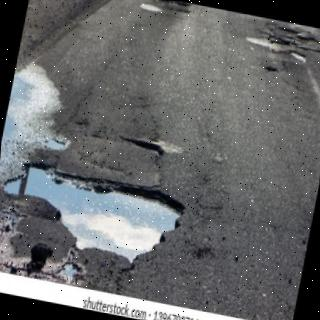pothole: (4, 161, 182, 264)
